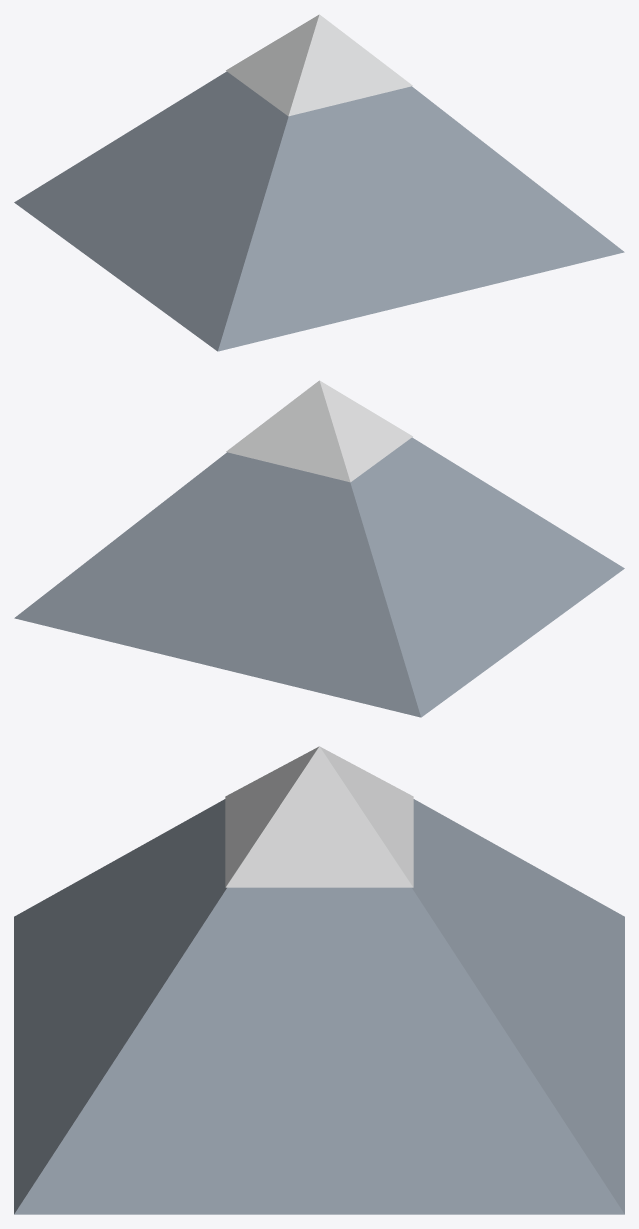
Rendered from mountain.glb.
3 views of the same model, one above another, from view 1: azimuth 30°, elevation 25°; view 2: azimuth 150°, elevation 25°; view 3: azimuth 270°, elevation 25° (orthographic). The views are drawn at different scales.
Parts seen in each view (by area): view 1: mountain; view 2: mountain; view 3: mountain.
Part boxes in pixels (x1,y1,x2,y2): mountain: (14,14,624,351); mountain: (14,380,624,717); mountain: (14,746,624,1214).
Size of the model in its own units: 188 by 93.75 by 162.
